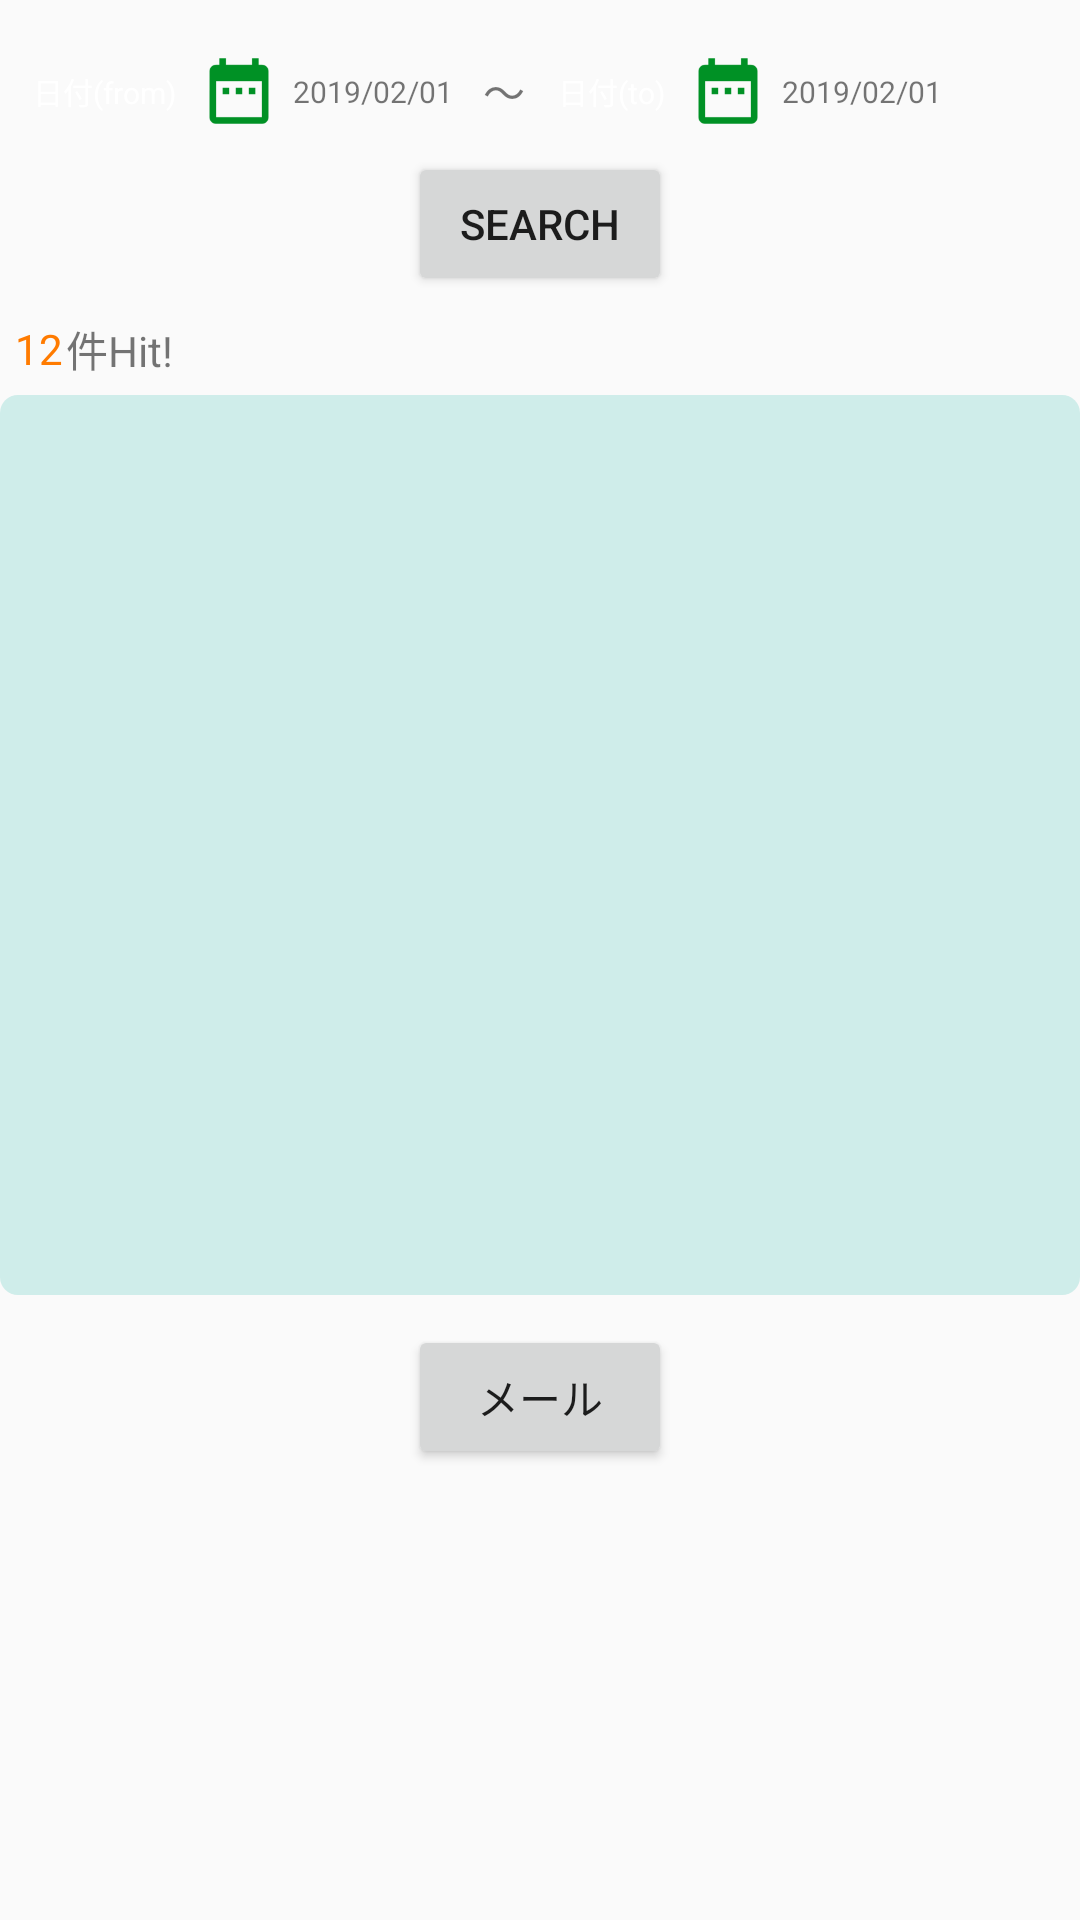

Where icons sit on this 1080×1920 app screen, as (x1, y1, x2, y2):
cal: (209, 58, 269, 124), (698, 58, 758, 124)
